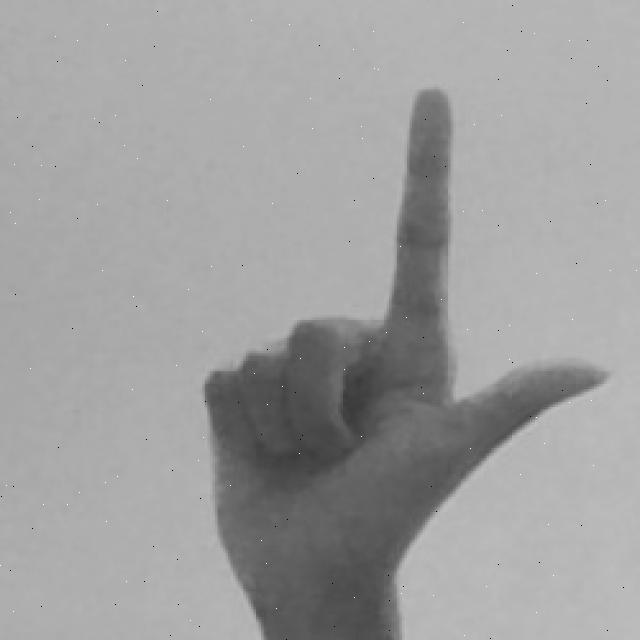L: (199, 80, 621, 638)
